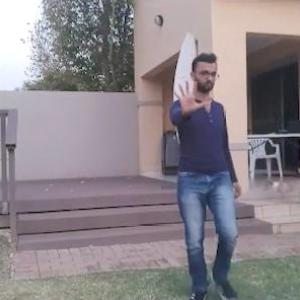follow_hand: (169, 75, 211, 120)
